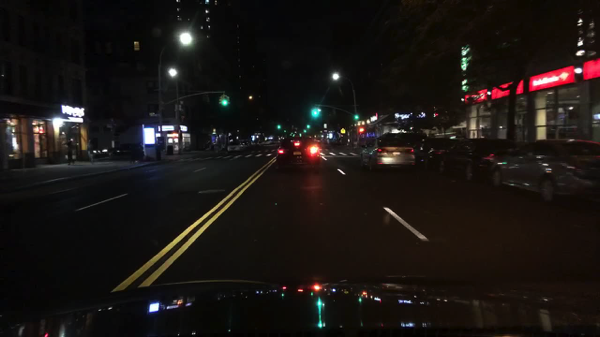car: (489, 140, 598, 202), (436, 137, 514, 185), (361, 133, 416, 172), (277, 137, 320, 171), (420, 137, 458, 172), (108, 142, 145, 162), (407, 132, 430, 163), (351, 133, 376, 149), (227, 140, 250, 154), (98, 146, 110, 158), (90, 147, 102, 158), (244, 140, 257, 150), (335, 136, 346, 146), (328, 136, 337, 146), (314, 136, 323, 143), (268, 134, 276, 140)
person: (66, 140, 76, 166)
traffic light: (225, 96, 230, 108), (222, 96, 227, 106), (353, 114, 360, 121), (179, 116, 186, 123), (313, 110, 319, 118), (218, 96, 222, 108), (275, 124, 281, 131), (305, 124, 312, 130), (302, 129, 309, 135), (206, 94, 211, 102), (358, 127, 364, 132)
traffic sign: (327, 132, 333, 140), (340, 127, 346, 134), (323, 123, 328, 130)
